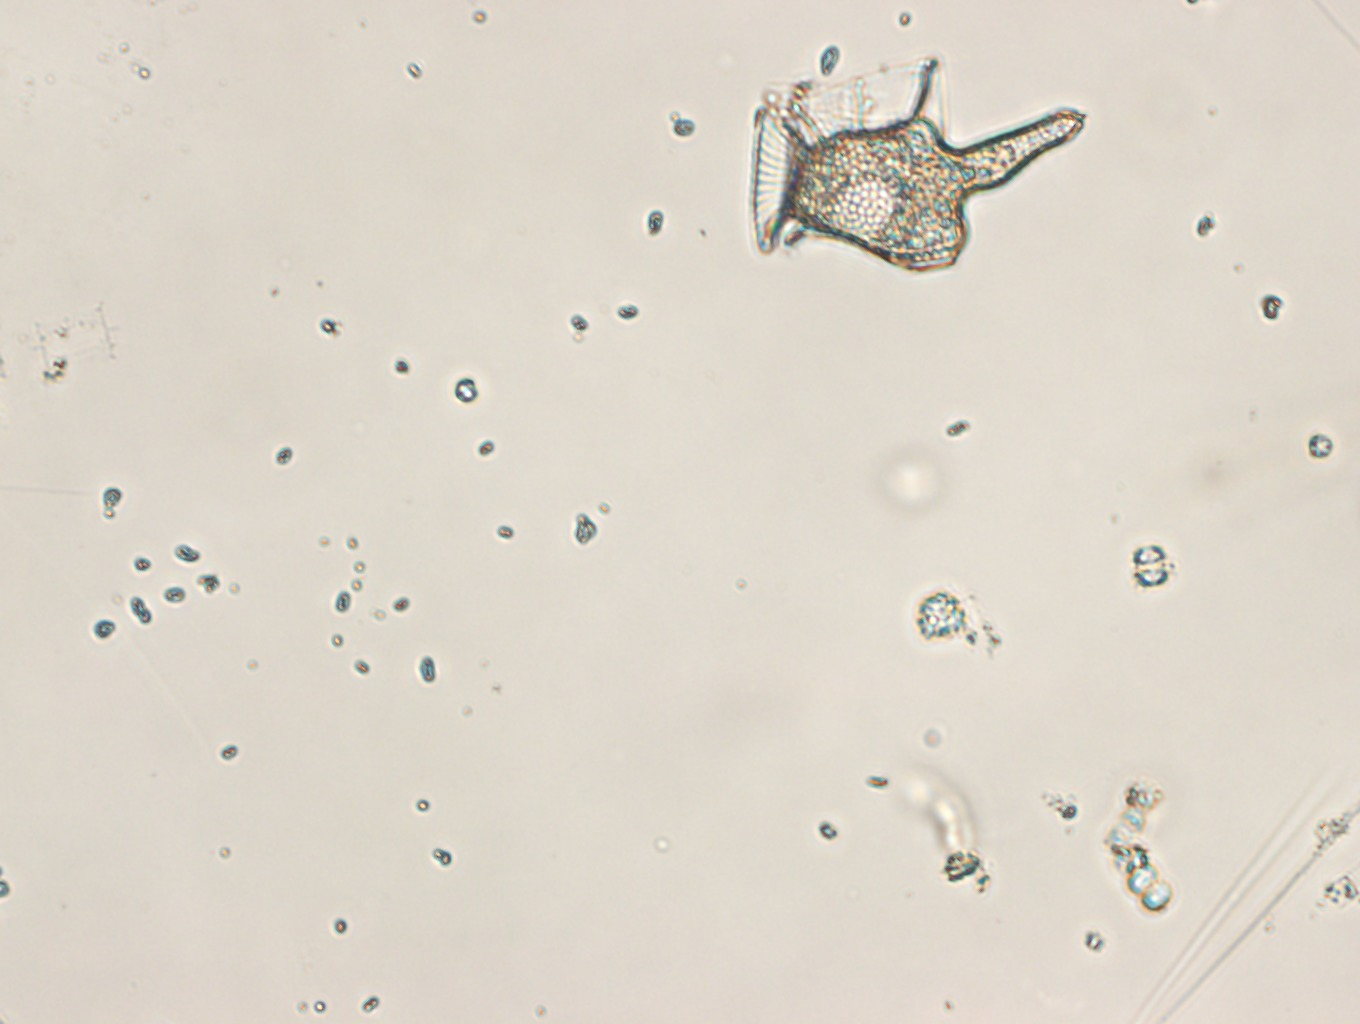dinophysis caudata: (749, 57, 1086, 272)
